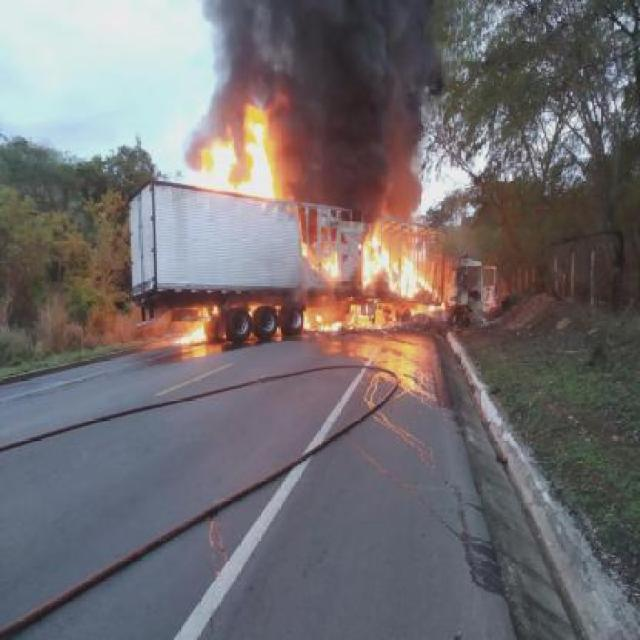Fire: (358, 236, 432, 298), (239, 108, 279, 201), (305, 304, 373, 332), (199, 142, 233, 190), (177, 324, 212, 344), (319, 250, 341, 278), (186, 166, 200, 188), (298, 239, 310, 259), (427, 302, 447, 312)
Smoke: (284, 0, 438, 214), (210, 0, 290, 102)
